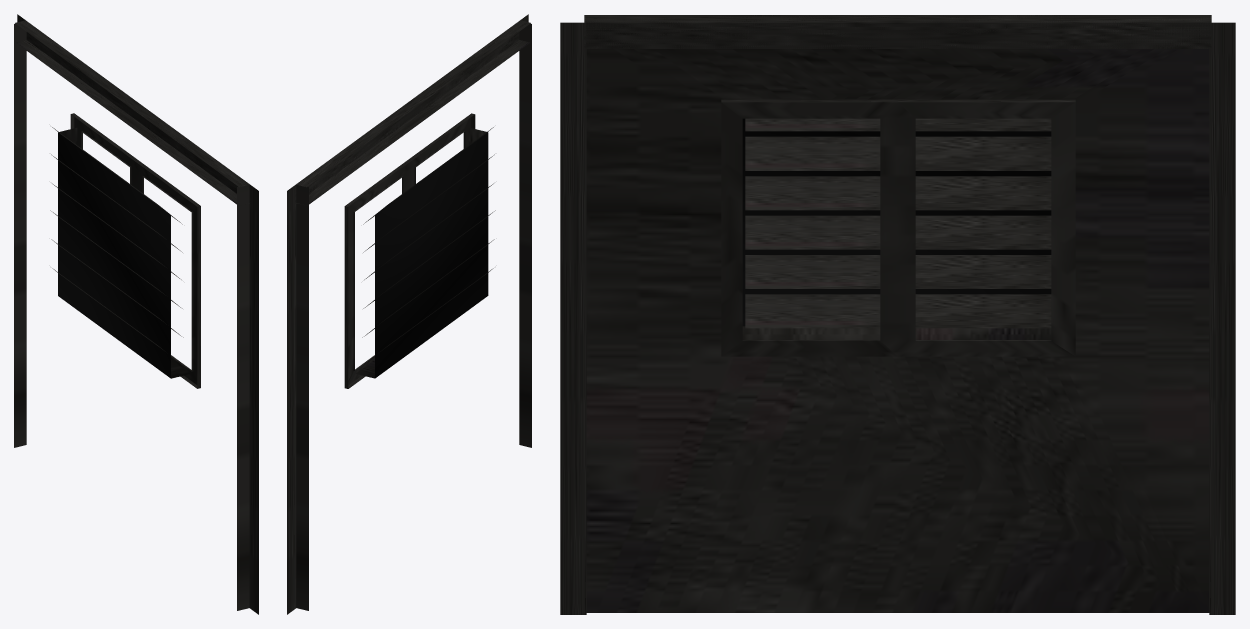
File: leftwhall.fbx
The picture shows the model from 3 angles, left to right: view 1: azimuth 30°, elevation 25°; view 2: azimuth 150°, elevation 25°; view 3: azimuth 270°, elevation 25°; orthographic projection. The views are drawn at different scales.
Visible parts, largest first — view 1: Cube, Cube.002, Cube.001, Cube.003, Plane; view 2: Cube, Cube.002, Cube.001, Cube.003, Plane; view 3: Cube, Plane, Cube.002, Cube.003, Cube.001.
Part boxes in pixels (x1,y1,x2,y2): Cube: (58, 127, 190, 378); Cube.002: (14, 14, 258, 614); Cube.001: (15, 20, 250, 205); Cube.003: (70, 113, 200, 388); Plane: (50, 127, 183, 365); Cube: (355, 127, 488, 378); Cube.002: (287, 14, 531, 614); Cube.001: (295, 20, 530, 205); Cube.003: (344, 113, 475, 388); Plane: (362, 127, 495, 365); Cube: (586, 49, 1209, 612); Plane: (745, 118, 1051, 328); Cube.002: (560, 22, 1235, 614); Cube.003: (721, 99, 1075, 356); Cube.001: (584, 15, 1211, 48).
Size of the model in its own units: 18.21 by 213 by 220.
Materials: 2 (1 with a texture image).
